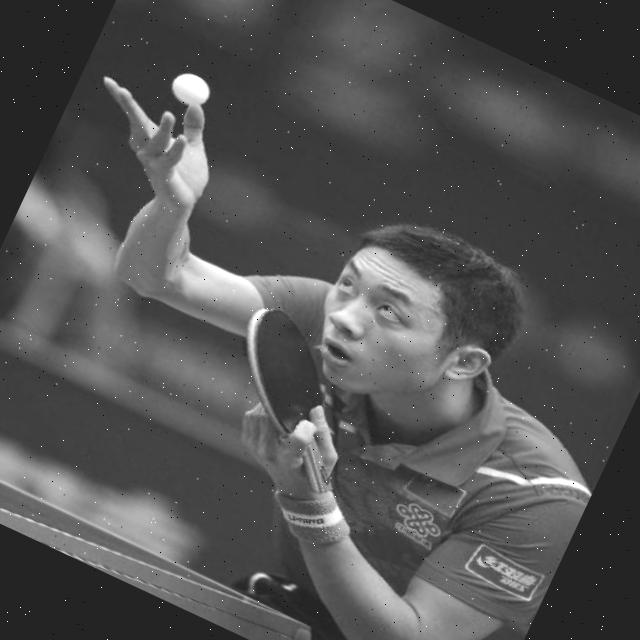ping-pong-ball: (157, 59, 222, 117)
